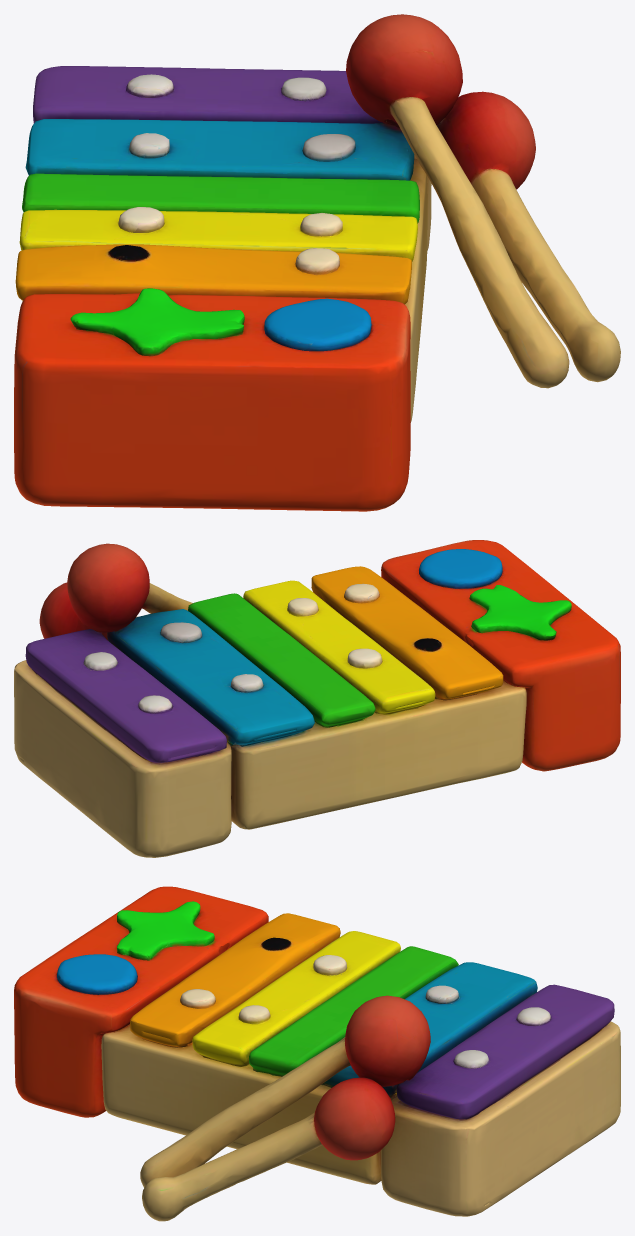
Rendered from realxylophone.glb.
The picture shows the model from 3 angles, top to bottom: view 1: azimuth 30°, elevation 25°; view 2: azimuth 150°, elevation 25°; view 3: azimuth 270°, elevation 25°; orthographic projection. The views are drawn at different scales.
Parts seen in each view (by area): view 1: Object_4; view 2: Object_4; view 3: Object_4.
Boxes of the visible parts, x1,y1,x2,y2 form: Object_4: (14,14,620,511); Object_4: (14,540,620,857); Object_4: (14,886,620,1221).
Bounding box in the file's own units: 0.7484 × 0.3 × 0.8142.
1 material, 1 textured.
